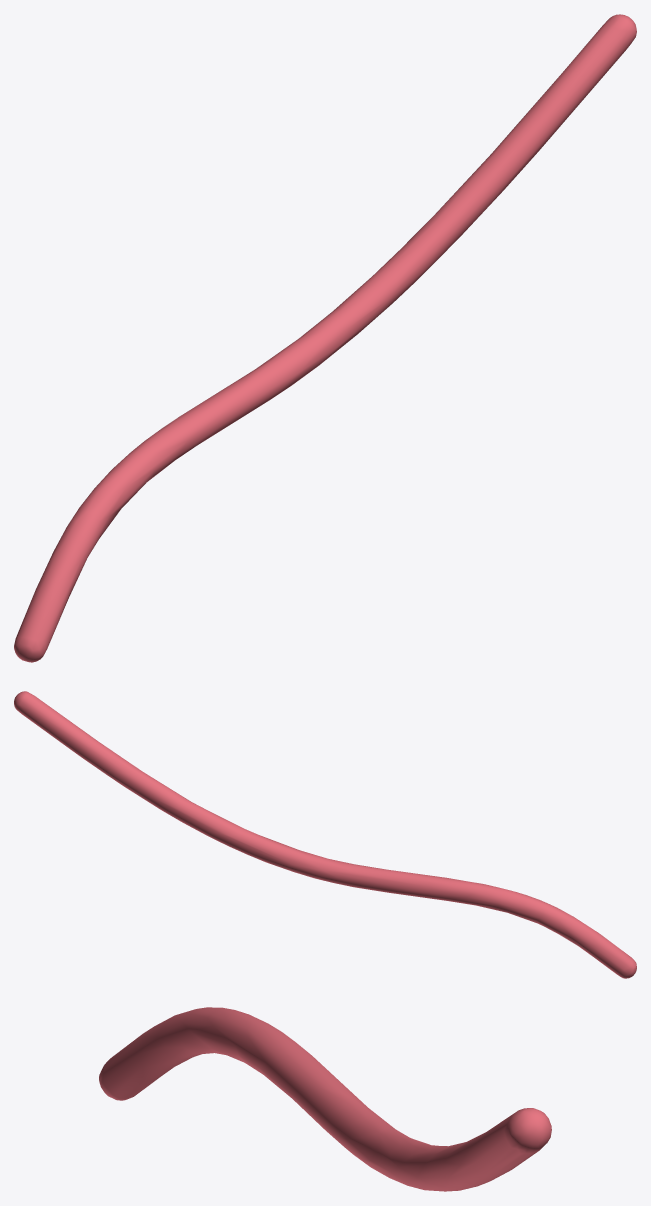
The model's file is fma69566_fj2159.glb.
The picture shows the model from 3 angles, top to bottom: view 1: azimuth 30°, elevation 25°; view 2: azimuth 150°, elevation 25°; view 3: azimuth 270°, elevation 25°; orthographic projection. The views are drawn at different scales.
Parts seen in each view (by area): view 1: FMA69566_FJ2159; view 2: FMA69566_FJ2159; view 3: FMA69566_FJ2159.
Part boxes in pixels (box(x1,y1,x2,y2)): FMA69566_FJ2159: box(14, 14, 636, 662); FMA69566_FJ2159: box(14, 691, 636, 978); FMA69566_FJ2159: box(99, 1007, 551, 1191).
Size of the model in its own units: 0.0467 by 0.0205 by 0.0177.
